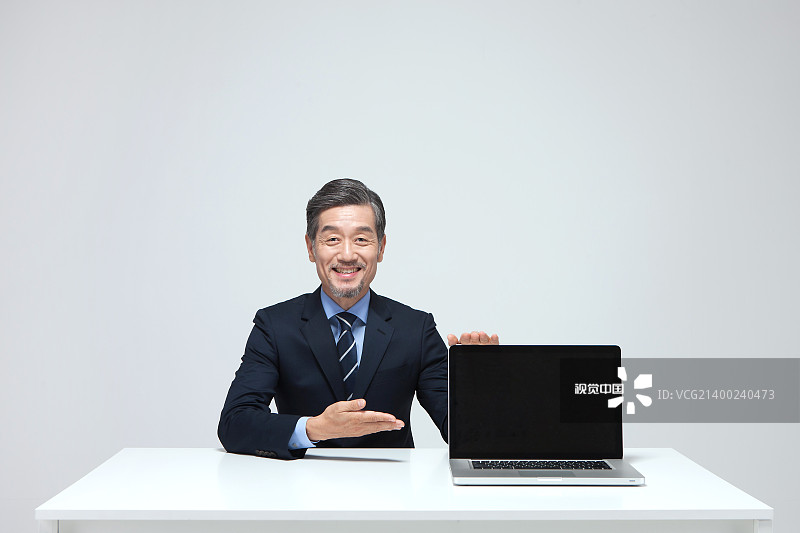no-phone: (300, 390, 414, 453)
